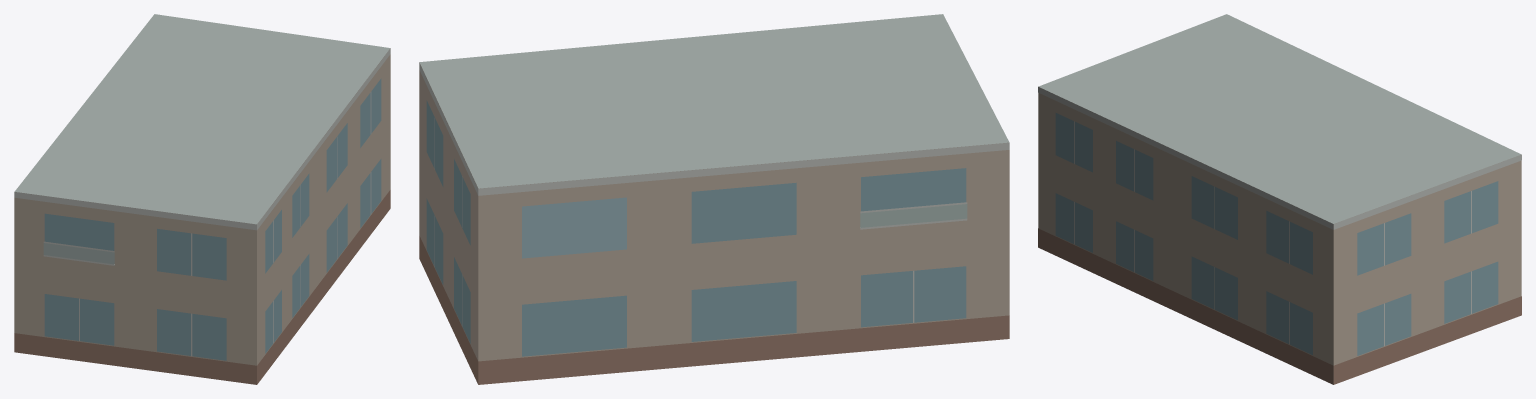
The model's file is survey-upis-32832694.glb.
The picture shows the model from 3 angles, left to right: view 1: azimuth 30°, elevation 25°; view 2: azimuth 150°, elevation 25°; view 3: azimuth 270°, elevation 25°; orthographic projection. The views are drawn at different scales.
Visible parts, largest first — view 1: survey-upis-32832694.tmp; view 2: survey-upis-32832694.tmp; view 3: survey-upis-32832694.tmp.
Boxes of the visible parts, x1,y1,x2,y2 form: survey-upis-32832694.tmp: (14, 14, 390, 384); survey-upis-32832694.tmp: (419, 14, 1009, 384); survey-upis-32832694.tmp: (1038, 14, 1521, 384).
Bounding box in the file's own units: 18.49 × 6.6 × 17.99.
